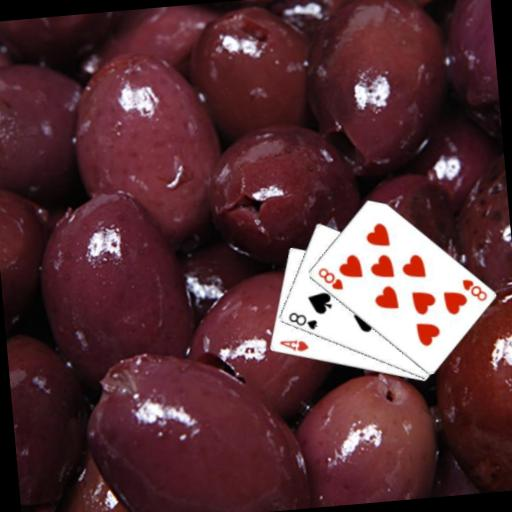8H: (314, 263, 345, 294), (459, 275, 489, 305)
8S: (285, 308, 319, 334)
AH: (276, 336, 310, 356)
